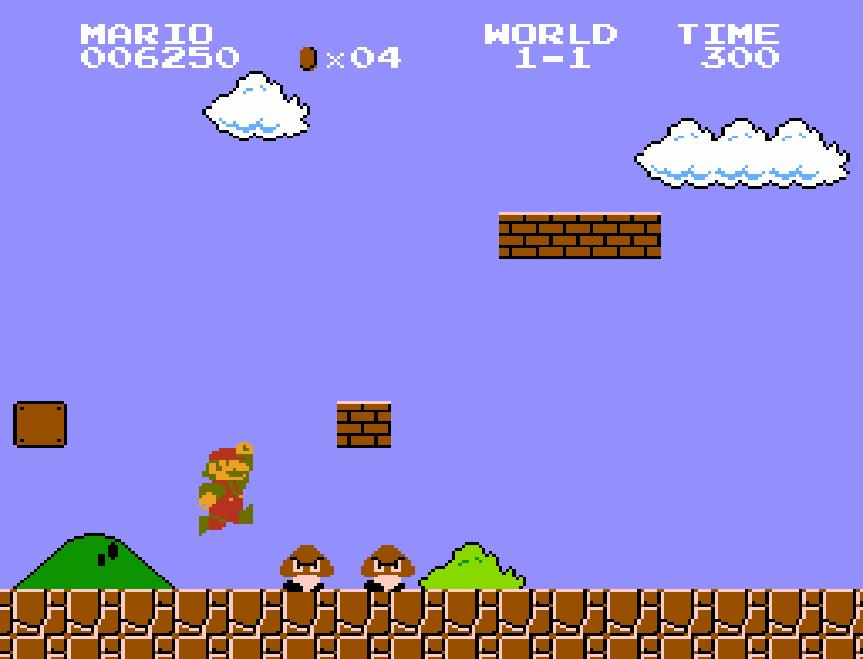big_mario: (196, 440, 254, 538)
